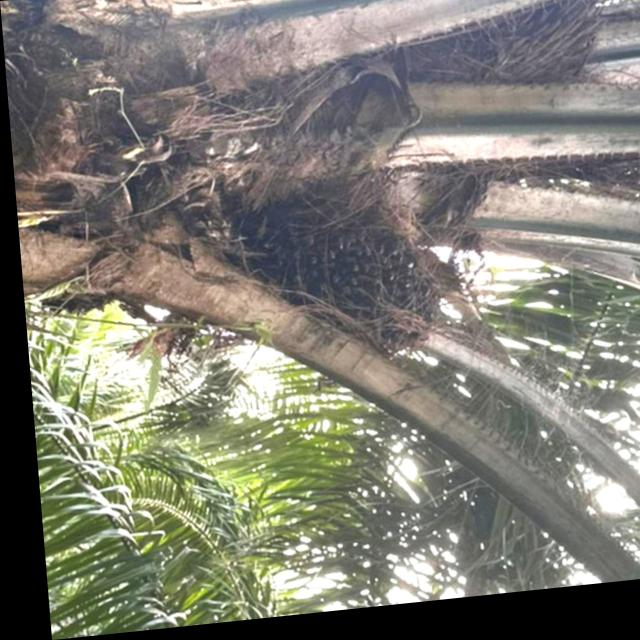unripe: (264, 204, 444, 375)
